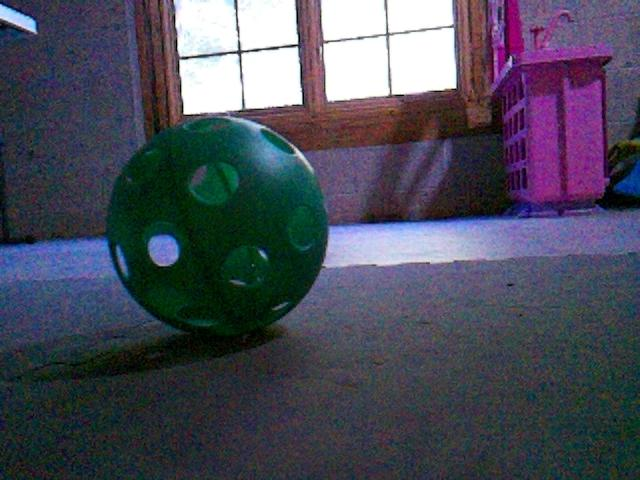Green: (105, 116, 328, 335)
